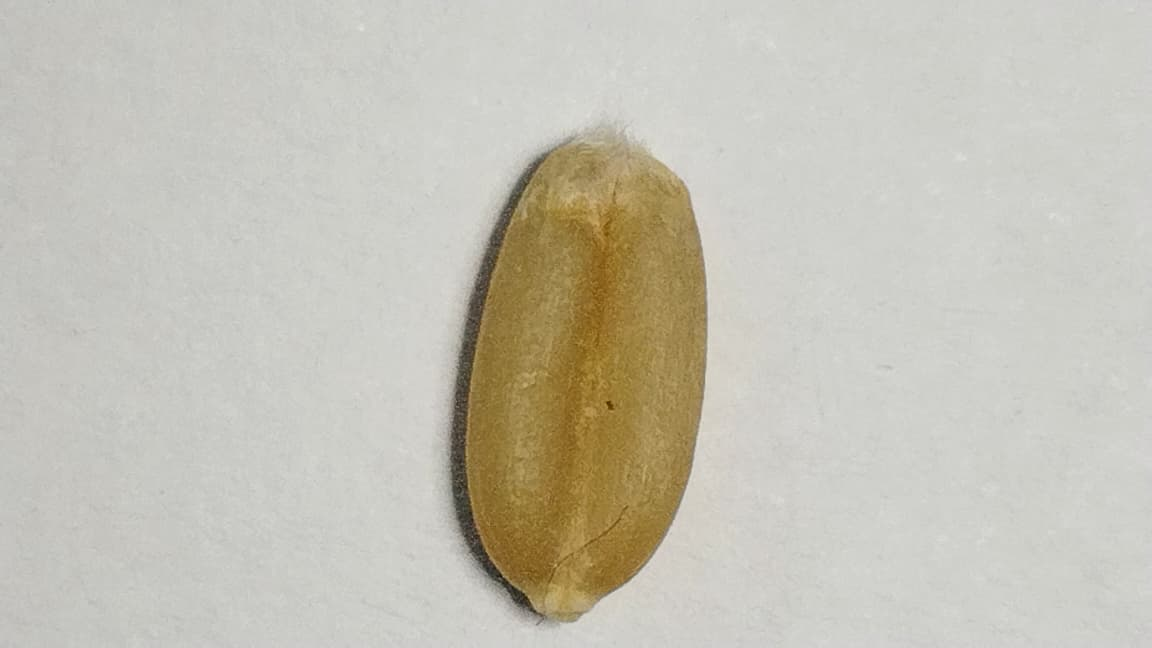healthy: (464, 131, 708, 621)
